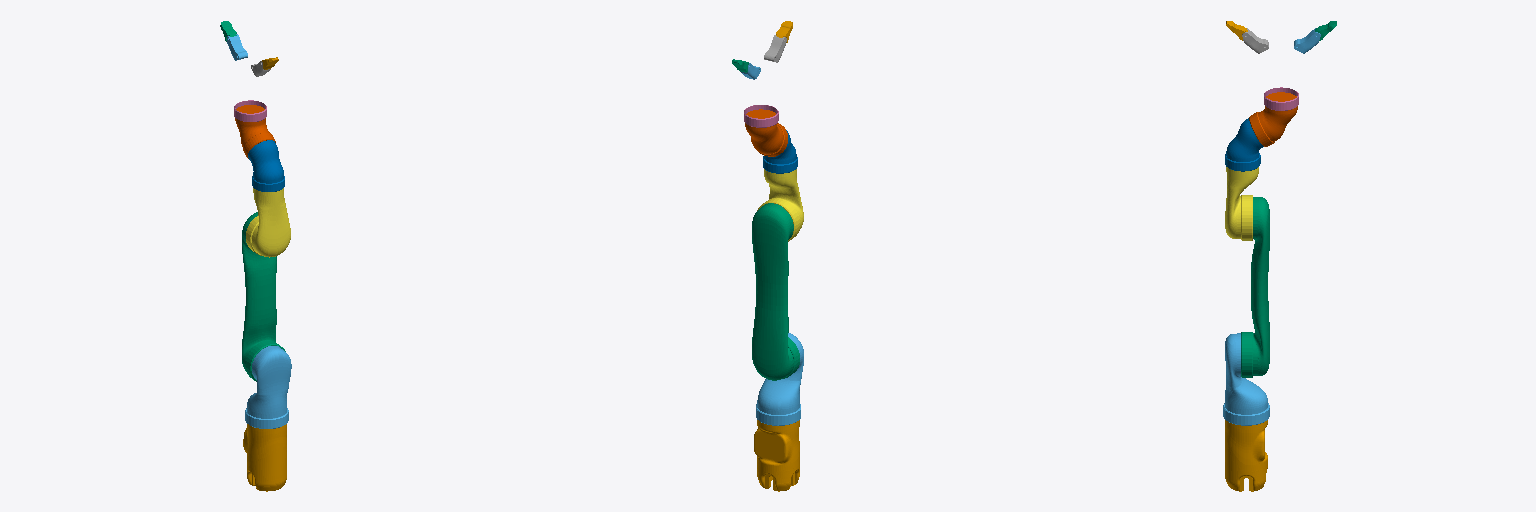
robot.urdf — mico:
<?xml version="1.0" ?>

<robot name="mico">

  <link name="mico_link_base">
    <visual>
      <geometry>
        <mesh filename="kinova_graphics/base.obj"/>
      </geometry>
    </visual>
    <inertial>
      <mass value="0.46784"/>
      <origin rpy="0 0 0" xyz="0 0 0.1255"/>
      <inertia ixx="0.000951270861568" ixy="0" ixz="0" iyy="0.000951270861568" iyz="0" izz="0.000374272"/>
    </inertial>
  </link>

  <link name="mico_link_1">
    <visual>
      <geometry>
        <mesh filename="kinova_graphics/shoulder.obj"/>
      </geometry>
    </visual>
    <visual>
      <geometry>
        <mesh filename="kinova_graphics/ring_big.obj"/>
      </geometry>
    </visual>
    <inertial>
      <mass value="0.7477"/>
      <origin xyz="0 -0.002 -0.0605"/>
      <inertia ixx="0.00152031725204" ixy="0" ixz="0" iyy="0.00152031725204" iyz="0" izz="0.00059816"/>
    </inertial>
  </link>
  
  <joint name="mico_joint_1" type="revolute">
    <parent link="mico_link_base"/>
    <child link="mico_link_1"/>
    <axis xyz="0 0 1"/>
    <limit effort="2000" lower="-6.28318530718" upper="6.28318530718" velocity="1"/>
    <origin rpy="0 3.14159265359 0" xyz="0 0 0.15675"/>
    <dynamics damping="0.0" friction="0.0"/>
  </joint>

  <link name="mico_link_2">
    <visual>
      <geometry>
        <mesh filename="kinova_graphics/arm_mico.obj"/>
      </geometry>
    </visual>
    <visual>
      <geometry>
        <mesh filename="kinova_graphics/ring_big.obj"/>
      </geometry>
    </visual>
    <inertial>
      <mass value="0.85968"/>
      <origin xyz="0 -0.145  -0.0076"/>
      <inertia ixx="0.00467090931629" ixy="0" ixz="0" iyy="0.000386856" iyz="0" izz="0.00467090931629"/>
    </inertial>
  </link>

  <joint name="mico_joint_2" type="revolute">
    <parent link="mico_link_1"/>
    <child link="mico_link_2"/>
    <axis xyz="0 0 1"/>
    <limit effort="2000" lower="0.872664625997" upper="5.41052068118" velocity="1"/>
    <origin rpy="-1.57079632679 0 3.14159265359" xyz="0 0.0016 -0.11875"/>
    <dynamics damping="0.0" friction="0.0"/>
  </joint>

  <link name="mico_link_3">
    <visual>
      <geometry>
        <mesh filename="kinova_graphics/forearm_mico.obj"/>
      </geometry>
    </visual>
    <visual>
      <geometry>
        <mesh filename="kinova_graphics/ring_big.obj"/>
      </geometry>
    </visual>
    <inertial>
      <mass value="0.606"/>
      <origin xyz="0 0.0463 -0.0065"/>
      <inertia ixx="0.0003837984648" ixy="0" ixz="0" iyy="0.0001212" iyz="0" izz="0.0003837984648"/>
    </inertial>
  </link>

  <joint name="mico_joint_3" type="revolute">
    <parent link="mico_link_2"/>
    <child link="mico_link_3"/>
    <axis xyz="0 0 1"/>
    <limit effort="2000" lower="0.610865238198" upper="5.67232006898" velocity="1"/>
    <origin rpy="0 3.14159265359 0" xyz="0 -0.290 0"/>
    <dynamics damping="0.0" friction="0.0"/>
  </joint>

  <link name="mico_link_4">
    <visual>
      <geometry>
        <mesh filename="kinova_graphics/wrist.obj"/>
      </geometry>
    </visual>
    <visual>
      <geometry>
        <mesh filename="kinova_graphics/ring_small.obj"/>
      </geometry>
    </visual>
    <inertial>
      <mass value="0.426367"/>
      <origin xyz="0 -0.037 -0.0642"/>
      <inertia ixx="7.73496906e-05" ixy="0" ixz="0" iyy="7.73496906e-05" iyz="0" izz="0.0001428"/>
    </inertial>
  </link>

  <joint name="mico_joint_4" type="revolute">
    <parent link="mico_link_3"/>
    <child link="mico_link_4"/>
    <axis xyz="0 0 1"/>
    <limit effort="2000" lower="-6.28318530718" upper="6.28318530718" velocity="1"/>
    <origin rpy="-1.57079632679 0 3.14159265359" xyz="0 0.1231 -0.0086"/>
    <dynamics damping="0.0" friction="0.0"/>
  </joint>

  <link name="mico_link_5">
    <visual>
      <geometry>
        <mesh filename="kinova_graphics/wrist.obj"/>
      </geometry>
    </visual>
    <visual>
      <geometry>
        <mesh filename="kinova_graphics/ring_small.obj"/>
      </geometry>
    </visual>
    <inertial>
      <mass value="0.426367"/>
      <origin xyz="0 -0.037 -0.0642"/>
      <inertia ixx="7.73496906e-05" ixy="0" ixz="0" iyy="7.73496906e-05" iyz="0" izz="0.0001428"/>
    </inertial>
  </link>

  <joint name="mico_joint_5" type="revolute">
    <parent link="mico_link_4"/>
    <child link="mico_link_5"/>
    <axis xyz="0 0 1"/>
    <limit effort="2000" lower="-6.28318530718" upper="6.28318530718" velocity="1"/>
    <origin rpy="1.0471975512 0 3.14159265359" xyz="0 -0.03703 -0.06414"/>
    <dynamics damping="0.0" friction="0.0"/>
  </joint>

  <link name="mico_link_6">
    <visual>
      <geometry>
        <mesh filename="kinova_graphics/hand_2finger.obj"/>
      </geometry>
    </visual>
    <visual>
      <geometry>
        <mesh filename="kinova_graphics/ring_small.obj"/>
      </geometry>
    </visual>
    <inertial>
      <mass value="0.78"/>
      <origin xyz="0 0 -0.06"/>
      <inertia ixx="0.000370498518" ixy="0" ixz="0" iyy="0.000370498518" iyz="0" izz="0.000624"/>
    </inertial>
  </link>

  <joint name="mico_joint_6" type="revolute">
    <parent link="mico_link_5"/>
    <child link="mico_link_6"/>
    <axis xyz="0 0 1"/>
    <limit effort="2000" lower="-6.28318530718" upper="6.28318530718" velocity="1"/>
    <origin rpy="1.0471975512 0 3.14159265359" xyz="0 -0.03703 -0.06414"/>
    <dynamics damping="0.0" friction="0.0"/>
  </joint>

  <link name="mico_link_finger_1">
    <visual>
      <geometry>
        <mesh filename="kinova_graphics/finger_proximal.obj"/>
      </geometry>
    </visual>
    <inertial>
      <mass value="0.01"/>
      <origin xyz="0.022 0 0"/>
      <inertia ixx="7.8999684e-07" ixy="0" ixz="0" iyy="7.8999684e-07" iyz="0" izz="8e-08"/>
    </inertial>
  </link>

  <joint name="mico_joint_finger_1" type="fixed">
    <parent link="mico_link_6"/>
    <child link="mico_link_finger_1"/>
    <axis xyz="0 0 1"/>
    <origin rpy="-1.570796327 .649262481663582 1.57079632679490" xyz="-0.0025 0.03095 -0.11482"/>
    <limit effort="2000" lower="0" upper="2" velocity="1"/>
  </joint>

  <link name="mico_link_finger_tip_1">
    <visual>
      <geometry>
        <mesh filename="kinova_graphics/finger_distal.obj"/>
      </geometry>
    </visual>
    <inertial>
      <mass value="0.01"/>
      <origin xyz="0.022 0 0"/>
      <inertia ixx="7.8999684e-07" ixy="0" ixz="0" iyy="7.8999684e-07" iyz="0" izz="8e-08"/>
    </inertial>
  </link>

  <joint name="mico_joint_finger_tip_1" type="fixed">
    <parent link="mico_link_finger_1"/>
    <child link="mico_link_finger_tip_1"/>
    <axis xyz="0 0 1"/>
    <origin rpy="0 0 0" xyz="0.044 -0.003 0"/>
    <limit effort="2000" lower="0" upper="2" velocity="1"/>
  </joint>

  <link name="mico_link_finger_2">
    <visual>
      <geometry>
        <mesh filename="kinova_graphics/finger_proximal.obj"/>
      </geometry>
    </visual>
    <inertial>
      <mass value="0.01"/>
      <origin xyz="0.022 0 0"/>
      <inertia ixx="7.8999684e-07" ixy="0" ixz="0" iyy="7.8999684e-07" iyz="0" izz="8e-08"/>
    </inertial>
  </link>

  <joint name="mico_joint_finger_2" type="fixed">
    <parent link="mico_link_6"/>
    <child link="mico_link_finger_2"/>
    <axis xyz="0 0 1"/>
    <origin rpy="-1.570796327 .649262481663582 -1.57079632679490" xyz="-0.0025 -0.03095 -0.11482"/>
    <limit effort="2000" lower="0" upper="2" velocity="1"/>
  </joint>

  <link name="mico_link_finger_tip_2">
    <visual>
      <geometry>
        <mesh filename="kinova_graphics/finger_distal.obj"/>
      </geometry>
    </visual>
    <inertial>
      <mass value="0.01"/>
      <origin xyz="0.022 0 0"/>
      <inertia ixx="7.8999684e-07" ixy="0" ixz="0" iyy="7.8999684e-07" iyz="0" izz="8e-08"/>
    </inertial>
  </link>

  <joint name="mico_joint_finger_tip_2" type="fixed">
    <parent link="mico_link_finger_2"/>
    <child link="mico_link_finger_tip_2"/>
    <axis xyz="0 0 1"/>
    <origin rpy="0 0 0" xyz="0.044 -0.003 0"/>
    <limit effort="2000" lower="0" upper="2" velocity="1"/>
  </joint>
</robot>

--- Facts derived from the render (not from the file) ---
Views: 3 orthographic renders of the robot side by side, from view 1: azimuth 30°, elevation 25°; view 2: azimuth 150°, elevation 25°; view 3: azimuth 270°, elevation 25°.
Model mico with 11 links and 10 joints (6 revolute, 4 fixed), rooted at mico_link_base, posed joints at zero except 2 at the middle of their limits (mico_joint_2 = 3.14, mico_joint_3 = 3.14).
Visible links, largest first — view 1: mico_link_2, mico_link_1, mico_link_base, mico_link_3, mico_link_4, mico_link_5; view 2: mico_link_2, mico_link_base, mico_link_1, mico_link_3, mico_link_5, mico_link_4; view 3: mico_link_2, mico_link_base, mico_link_1, mico_link_3, mico_link_5, mico_link_4.
Boxes of the visible links, box(x1,y1,x2,y2) form: mico_link_2: box(242, 212, 285, 381); mico_link_1: box(245, 346, 291, 428); mico_link_base: box(243, 424, 286, 491); mico_link_3: box(246, 188, 290, 257); mico_link_4: box(248, 140, 284, 191); mico_link_5: box(235, 105, 275, 158); mico_link_2: box(752, 203, 799, 380); mico_link_base: box(754, 420, 799, 491); mico_link_1: box(756, 333, 803, 425); mico_link_3: box(757, 169, 803, 241); mico_link_5: box(745, 109, 787, 156); mico_link_4: box(763, 130, 797, 173); mico_link_2: box(1241, 197, 1269, 377); mico_link_base: box(1225, 420, 1267, 491); mico_link_1: box(1223, 333, 1269, 425); mico_link_3: box(1225, 167, 1258, 240); mico_link_5: box(1249, 92, 1297, 146); mico_link_4: box(1225, 118, 1263, 171).
Bounding box of the posed robot: 0.0889 × 0.2178 × 0.9793 m (x, y, z).
16 mesh visuals loaded from 10 distinct referenced files (9 OBJ); not drawn: 1 (reference not matched to a file when rendering).
